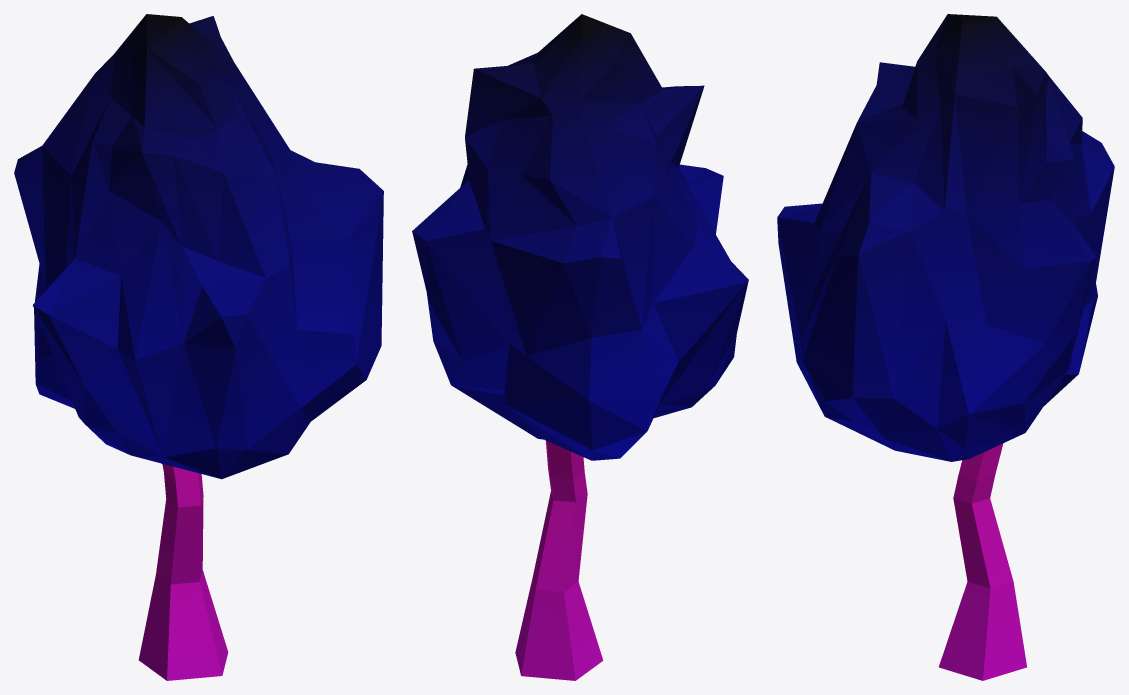
The model's file is SM_Tree_02.gltf.
3 views of the same model, side by side, from view 1: azimuth 30°, elevation 25°; view 2: azimuth 150°, elevation 25°; view 3: azimuth 270°, elevation 25° (orthographic). The views are drawn at different scales.
Visible parts, largest first — view 1: SM_Tree_02; view 2: SM_Tree_02; view 3: SM_Tree_02.
Boxes of the visible parts, x1,y1,x2,y2 form: SM_Tree_02: (14, 14, 383, 680); SM_Tree_02: (412, 14, 748, 680); SM_Tree_02: (777, 14, 1114, 680).
Bounding box in the file's own units: 3.06 × 6.25 × 3.01.
